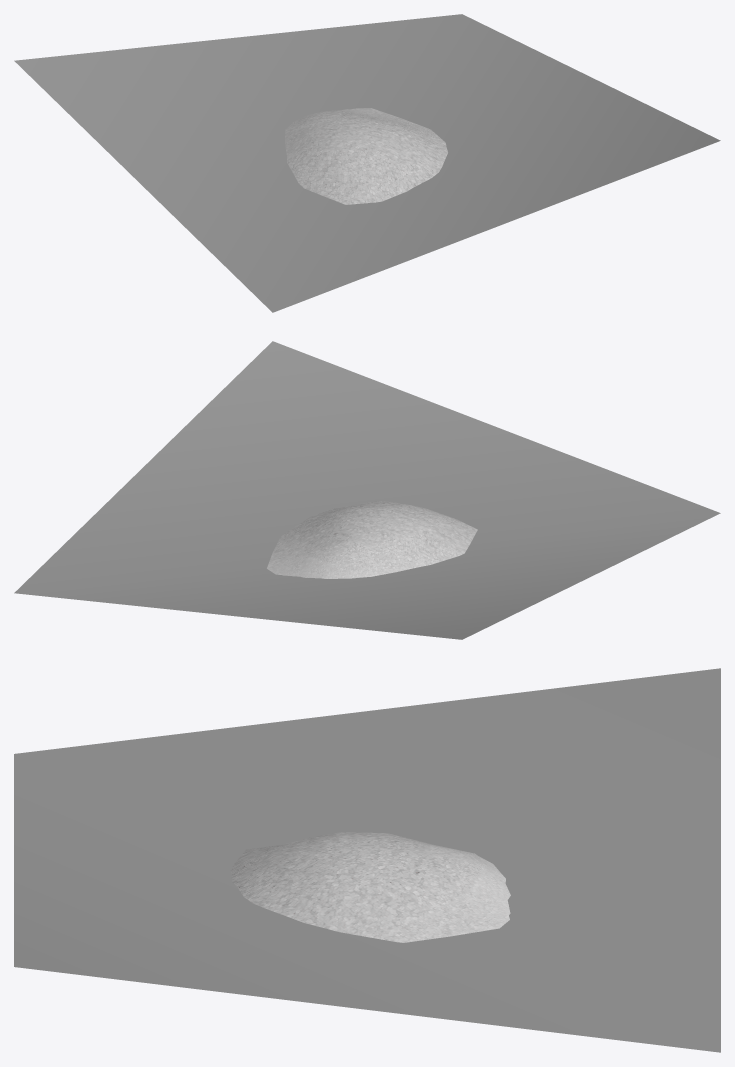
3 renders of one model, top to bottom at view 1: azimuth 30°, elevation 25°; view 2: azimuth 150°, elevation 25°; view 3: azimuth 270°, elevation 25°, orthographic. The views are drawn at different scales.
Visible parts, largest first — view 1: SM_纸片, SM_粉末; view 2: SM_纸片, SM_粉末; view 3: SM_纸片, SM_粉末.
Boxes of the visible parts, left/top/right/bottom form: SM_纸片: left=14, top=14, right=720, bottom=312; SM_粉末: left=285, top=108, right=447, bottom=204; SM_纸片: left=14, top=341, right=720, bottom=639; SM_粉末: left=267, top=501, right=477, bottom=578; SM_纸片: left=14, top=668, right=720, bottom=1052; SM_粉末: left=230, top=832, right=510, bottom=942.
Bounding box in the file's own units: 0.08 × 0.08 × 0.0107.
